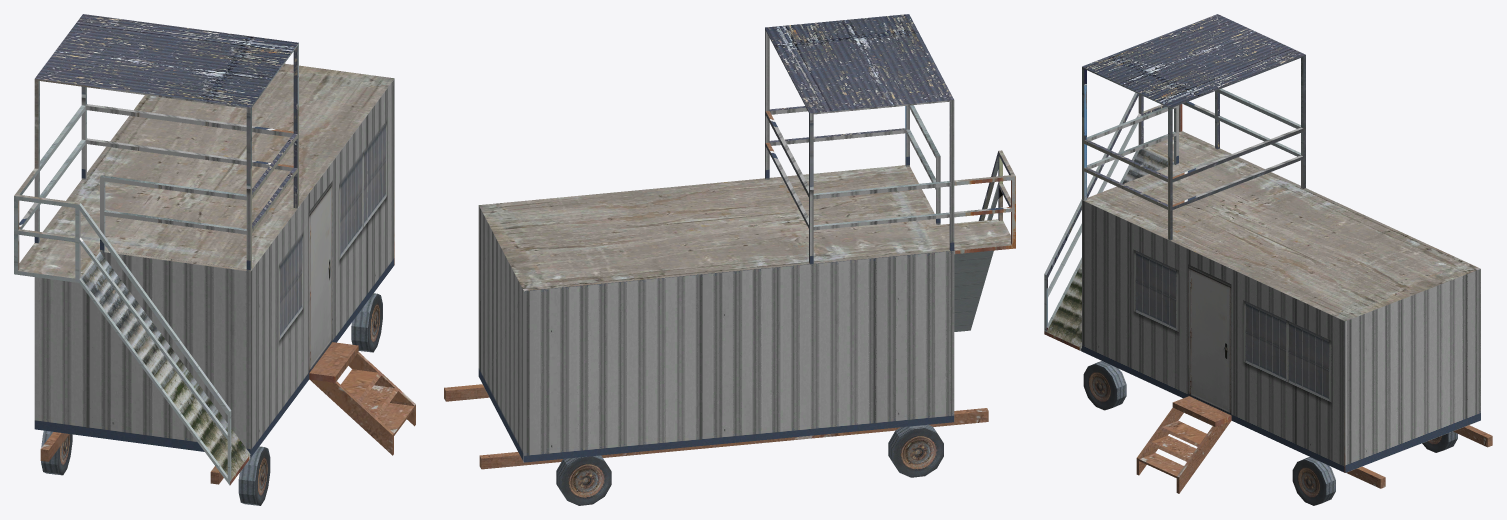
Rendered from llmg_bld8.gltf.
The picture shows the model from 3 angles, left to right: view 1: azimuth 30°, elevation 25°; view 2: azimuth 150°, elevation 25°; view 3: azimuth 270°, elevation 25°; orthographic projection. The views are drawn at different scales.
Visible parts, largest first — view 1: node1, node4, node3; view 2: node1, node4; view 3: node1, node4, node3.
Boxes of the visible parts, x1,y1,x2,y2 form: node1: [14, 14, 415, 505]; node4: [14, 63, 394, 278]; node3: [81, 252, 250, 479]; node1: [444, 14, 1015, 505]; node4: [479, 28, 1015, 290]; node1: [1044, 14, 1492, 505]; node4: [1085, 55, 1480, 321]; node3: [1047, 148, 1173, 348].
Size of the model in its own units: 6.71 by 5.35 by 6.43.
